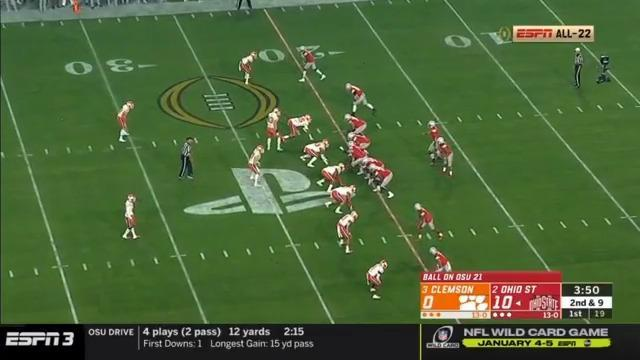player: (413, 202, 446, 243), (299, 44, 328, 85), (345, 81, 376, 117), (278, 114, 313, 145), (337, 211, 361, 256), (120, 191, 140, 243), (116, 99, 138, 146), (364, 258, 388, 300), (428, 245, 458, 278), (301, 139, 332, 170), (325, 185, 357, 215), (369, 165, 396, 200), (266, 106, 286, 153), (248, 143, 268, 189), (317, 163, 348, 191), (358, 155, 385, 186), (346, 142, 371, 174), (439, 136, 457, 179), (239, 49, 258, 89), (426, 119, 443, 163), (344, 112, 369, 137), (345, 132, 371, 154)
ref: (178, 136, 197, 184), (570, 48, 586, 94)
